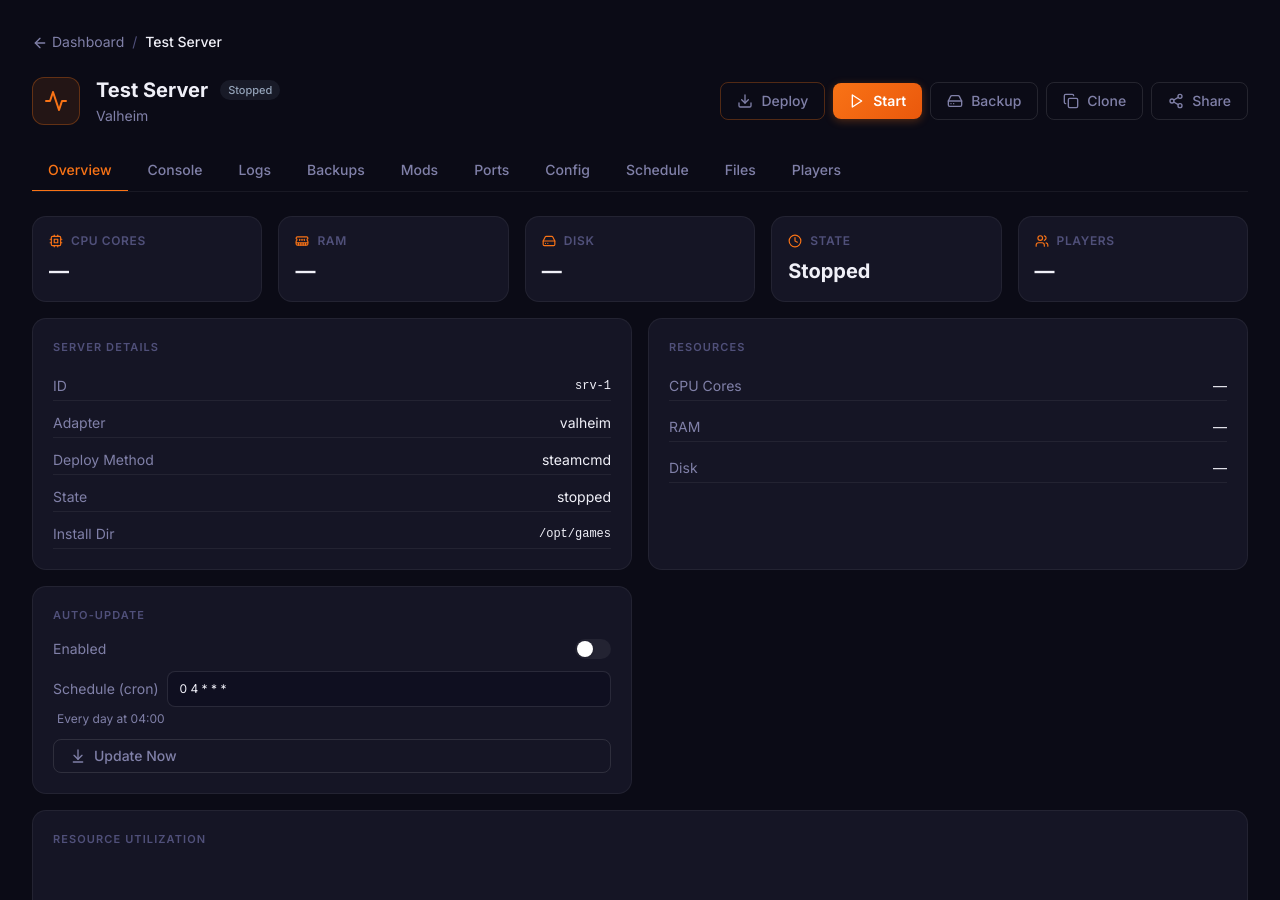
Test case: ServerDetailPage › Share modal shows join string for Valheim server
Click the button "Share" at (1200, 101), box [1151,82,1248,120]
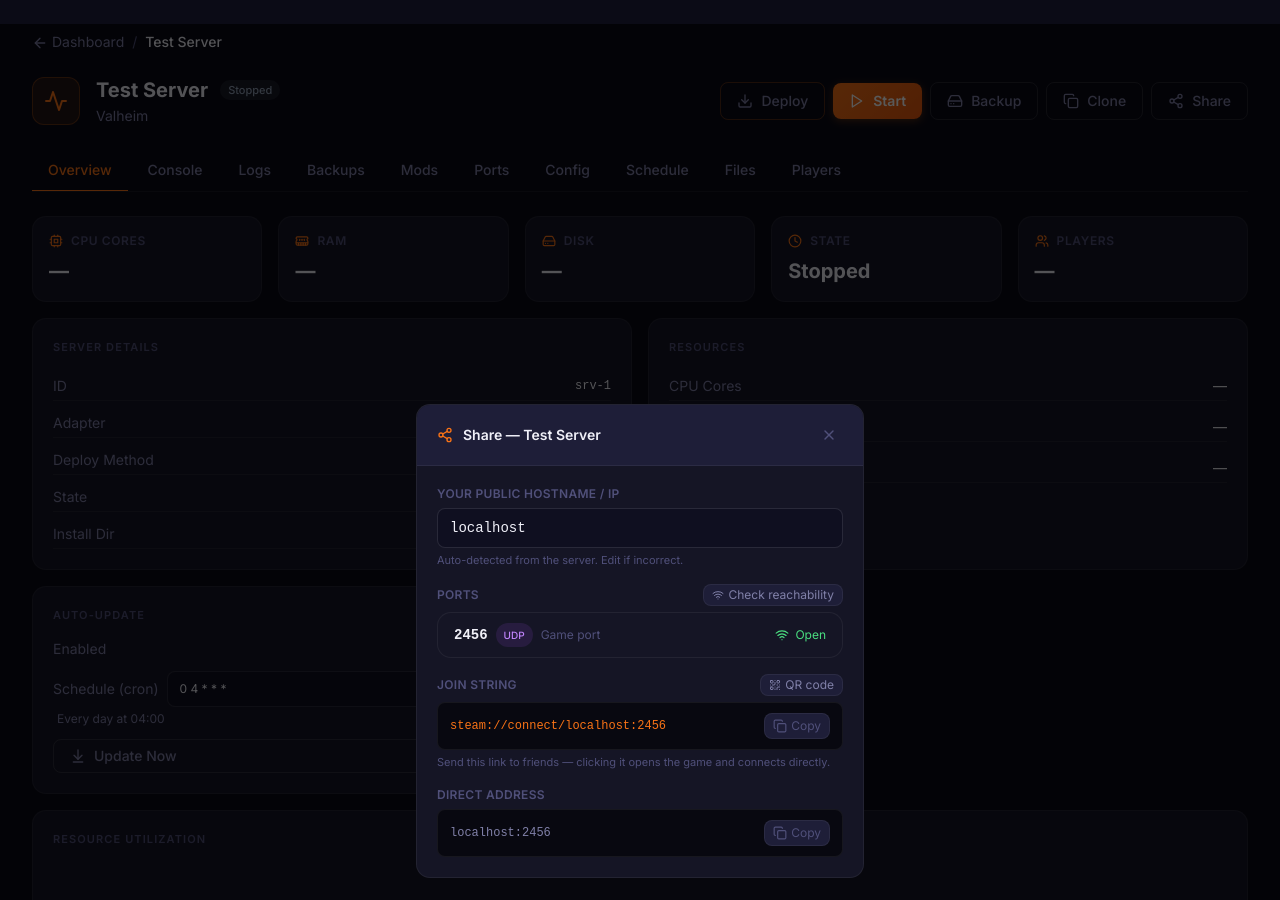
Expected: the text "steam://connect/localhost:2456" is shown, [450,719,666,733]
